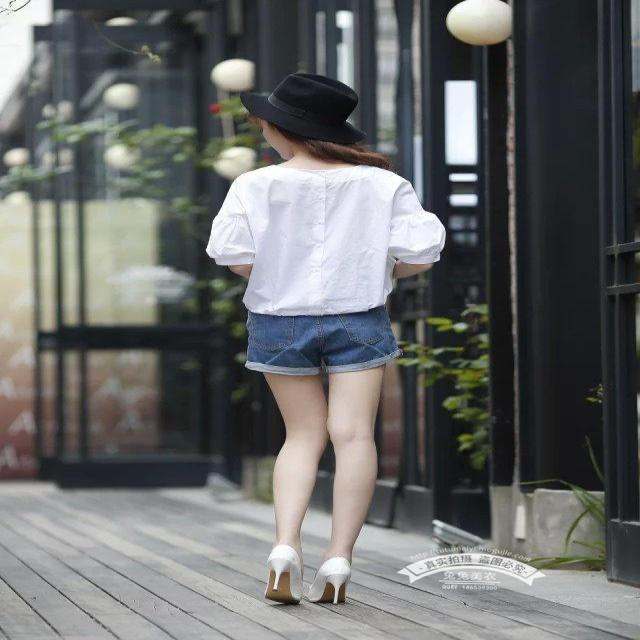short-sleeve-top: (216, 147, 439, 309)
shorts: (236, 313, 438, 380)
